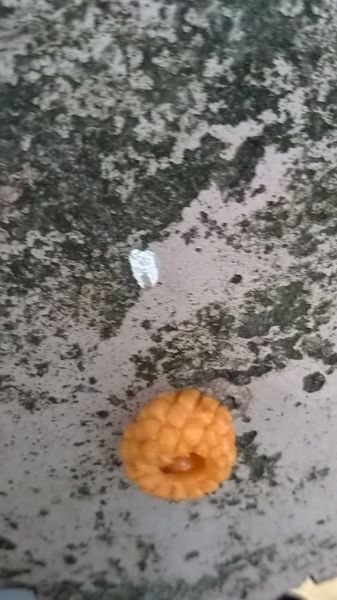eggs: (114, 379, 242, 501)
